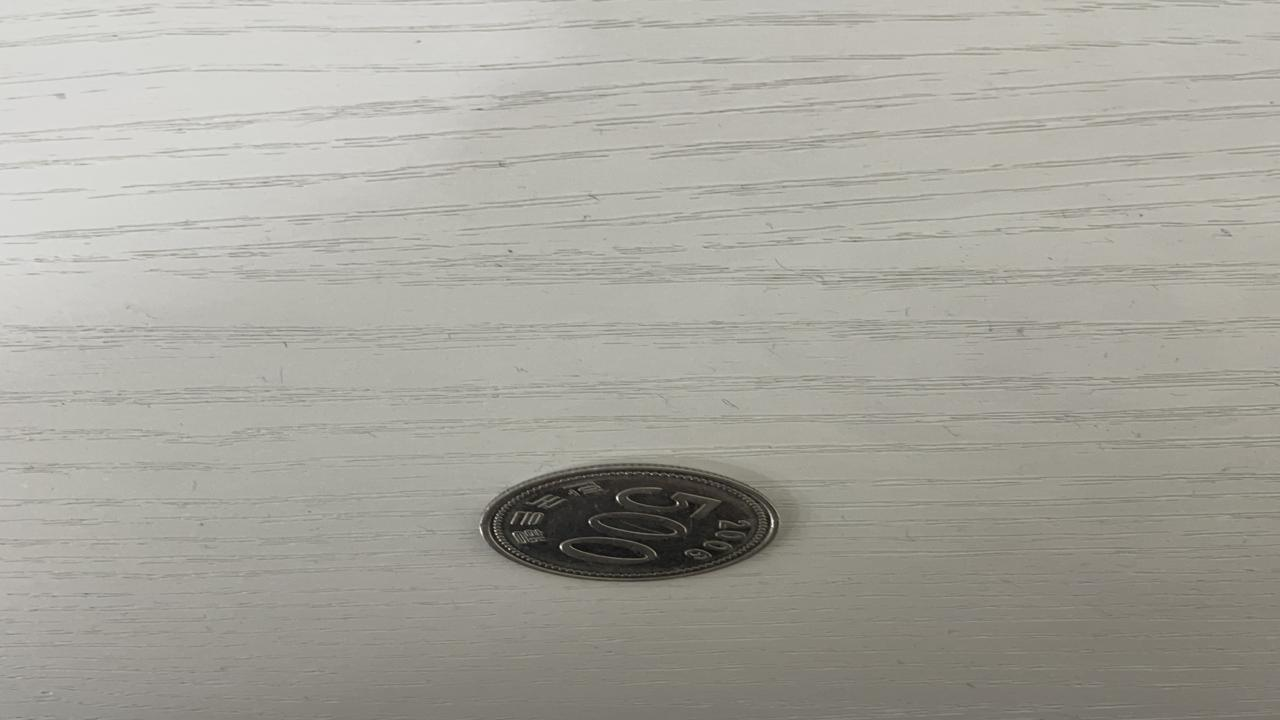coin: (474, 460, 790, 586)
